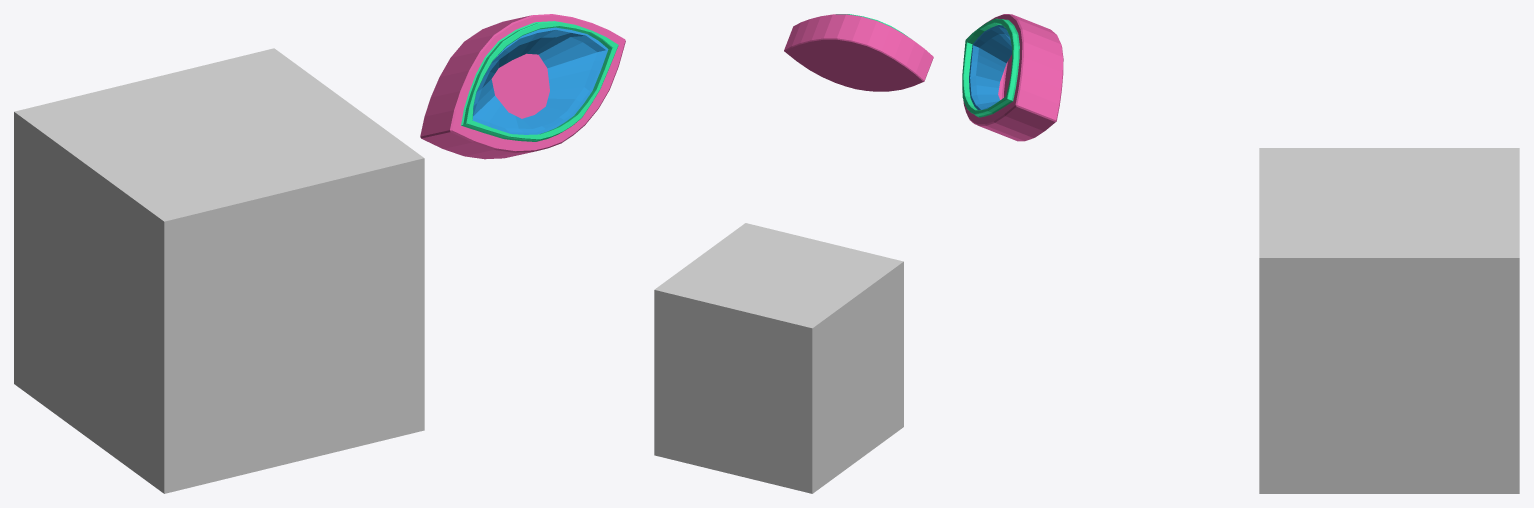
The model's file is N_Reye_Swallow.fbx.
3 renders of one model, left to right at view 1: azimuth 30°, elevation 25°; view 2: azimuth 150°, elevation 25°; view 3: azimuth 270°, elevation 25°, orthographic. The views are drawn at different scales.
Visible parts, largest first — view 1: Cube, eye.002; view 2: Cube, eye.002; view 3: Cube, eye.002.
Boxes of the visible parts, x1,y1,x2,y2 form: Cube: (14, 48, 424, 493); eye.002: (420, 14, 625, 159); Cube: (654, 223, 903, 493); eye.002: (784, 14, 933, 91); Cube: (1259, 148, 1519, 493); eye.002: (962, 14, 1063, 141).
Bounding box in the file's own units: 247 × 384 × 428.
